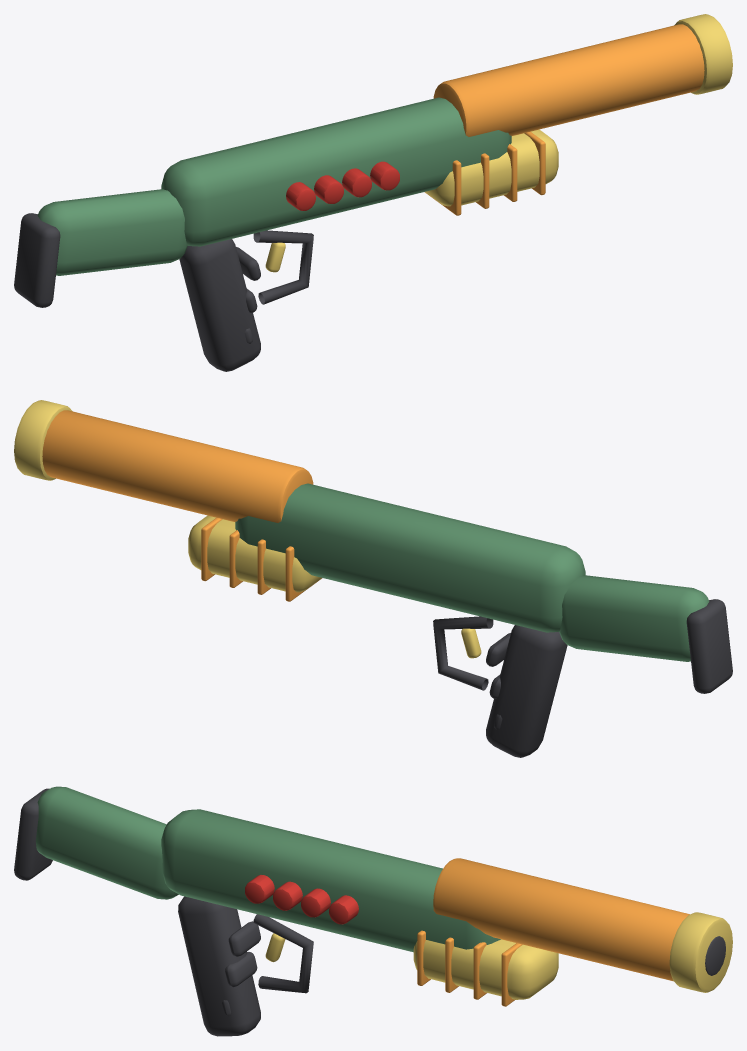
File: pump.glb
3 renders of one model, top to bottom at view 1: azimuth 30°, elevation 25°; view 2: azimuth 150°, elevation 25°; view 3: azimuth 330°, elevation 25°, orthographic.
Parts seen in each view (by area): view 1: body, barrel, stock, handle, pumpgrip, pad, muzzle, guard, shell2, shell3, shell1, shell0; view 2: body, barrel, stock, handle, pumpgrip, pad, muzzle, guard; view 3: body, barrel, stock, handle, pumpgrip, muzzle, pad, guard, bump0, bump1, shell2, shell3 (+7 smaller).
Boxes of the visible parts, x1=… form: body: x1=161, y1=97, x2=511, y2=246; barrel: x1=433, y1=24, x2=704, y2=136; stock: x1=37, y1=189, x2=187, y2=275; handle: x1=179, y1=239, x2=260, y2=371; pumpgrip: x1=425, y1=129, x2=558, y2=206; pad: x1=14, y1=213, x2=60, y2=307; muzzle: x1=674, y1=14, x2=732, y2=94; guard: x1=253, y1=230, x2=313, y2=304; shell2: x1=342, y1=168, x2=371, y2=197; shell3: x1=370, y1=161, x2=399, y2=190; shell1: x1=314, y1=175, x2=343, y2=203; shell0: x1=286, y1=182, x2=315, y2=210; body: x1=235, y1=483, x2=585, y2=632; barrel: x1=42, y1=410, x2=313, y2=522; stock: x1=559, y1=575, x2=709, y2=661; handle: x1=486, y1=625, x2=567, y2=757; pumpgrip: x1=188, y1=515, x2=321, y2=592; pad: x1=686, y1=599, x2=732, y2=693; muzzle: x1=14, y1=400, x2=72, y2=480; guard: x1=433, y1=616, x2=493, y2=690; body: x1=161, y1=809, x2=500, y2=952; barrel: x1=433, y1=858, x2=689, y2=981; stock: x1=35, y1=786, x2=178, y2=899; handle: x1=178, y1=896, x2=260, y2=1036; pumpgrip: x1=413, y1=939, x2=558, y2=999; muzzle: x1=669, y1=912, x2=732, y2=992; pad: x1=14, y1=788, x2=52, y2=880; guard: x1=253, y1=914, x2=313, y2=993; bump0: x1=228, y1=921, x2=260, y2=956; bump1: x1=225, y1=952, x2=257, y2=987; shell2: x1=301, y1=888, x2=330, y2=917; shell3: x1=329, y1=895, x2=358, y2=924.
Size of the model in its own units: 0.7408 by 0.2365 by 0.086.
